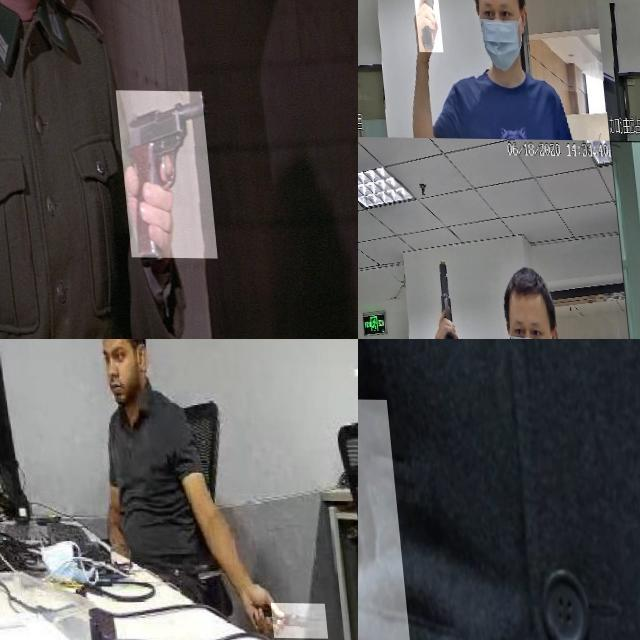-: (259, 602, 316, 638)
gun-knife-thesis - v11 Yolov5 augmented: (358, 396, 460, 640), (109, 89, 208, 257), (422, 256, 447, 339), (405, 0, 438, 59)
